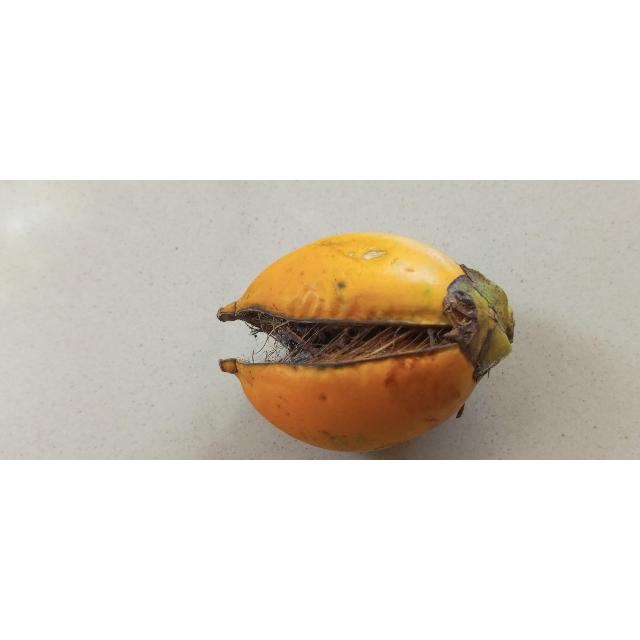damaged: (217, 233, 517, 453)
